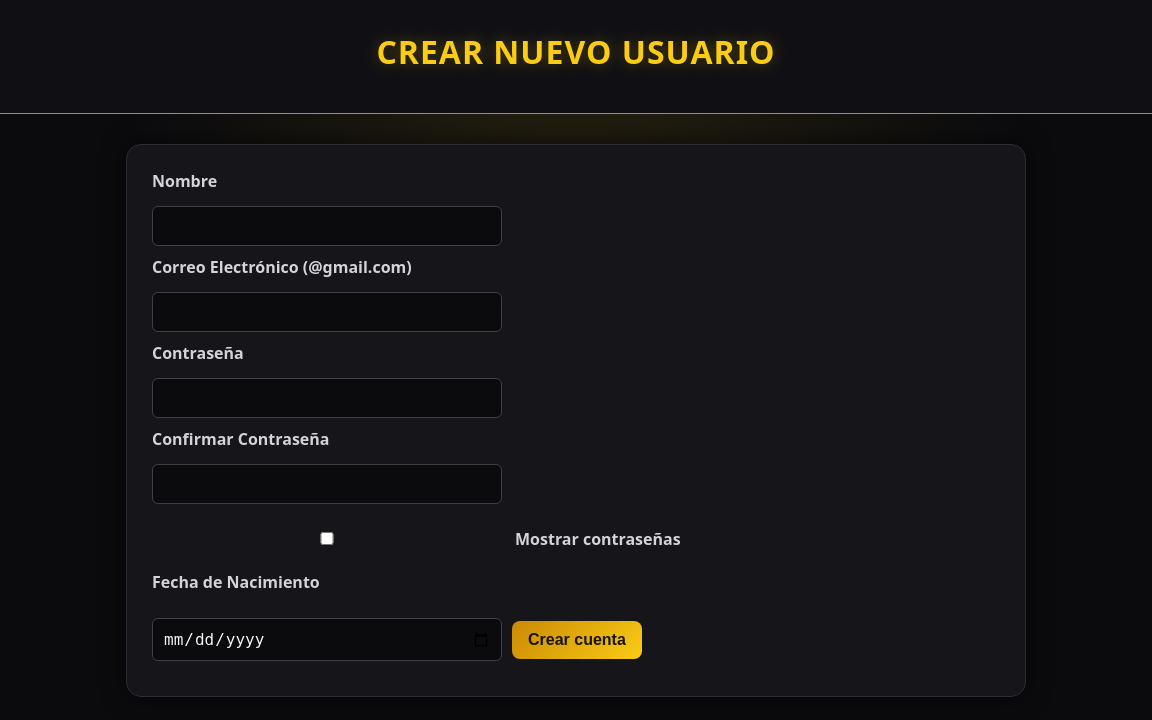
Componente Registro › muestra error si el nombre está vacío
Click the button "Crear cuenta": (577,640) [512, 621, 642, 659]
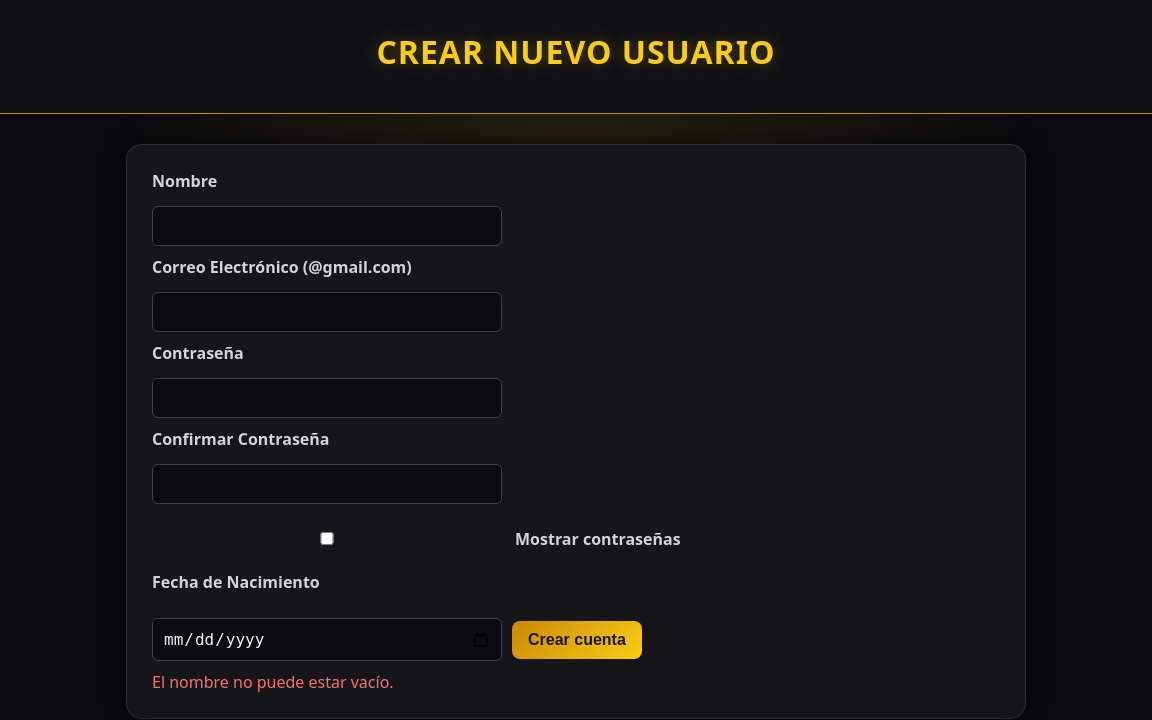
Result: the text "El nombre no puede estar vacío." is shown at [152, 671, 394, 693]
